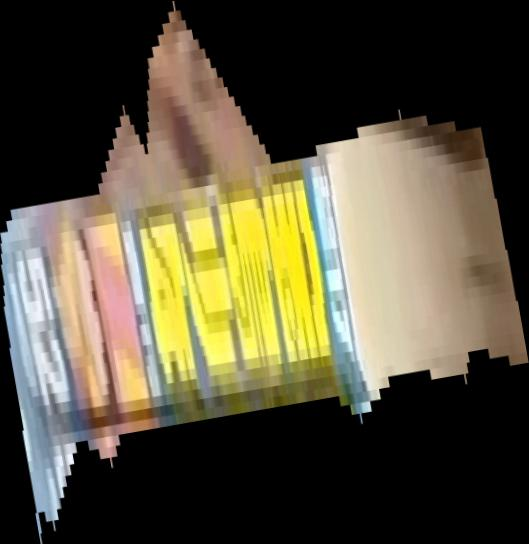flat: (1, 1, 529, 544)
